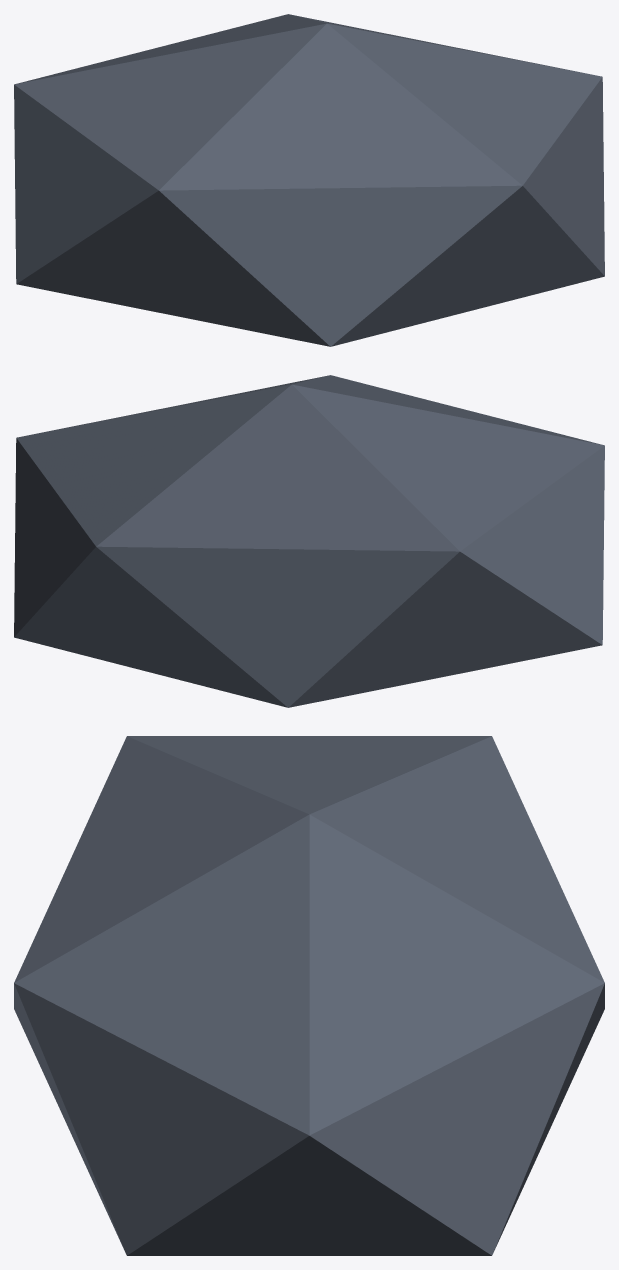
File: EXT_Cairn_01_0.glb
The picture shows the model from 3 angles, top to bottom: view 1: azimuth 30°, elevation 25°; view 2: azimuth 150°, elevation 25°; view 3: azimuth 270°, elevation 25°; orthographic projection. The views are drawn at different scales.
Visible parts, largest first — view 1: EXT_Cairn_01_0; view 2: EXT_Cairn_01_0; view 3: EXT_Cairn_01_0.
Boxes of the visible parts, x1=… form: EXT_Cairn_01_0: x1=14, y1=14, x2=604, y2=346; EXT_Cairn_01_0: x1=14, y1=375, x2=604, y2=707; EXT_Cairn_01_0: x1=14, y1=736, x2=604, y2=1255.
Bounding box in the file's own units: 1.28 × 0.6354 × 0.8847.
